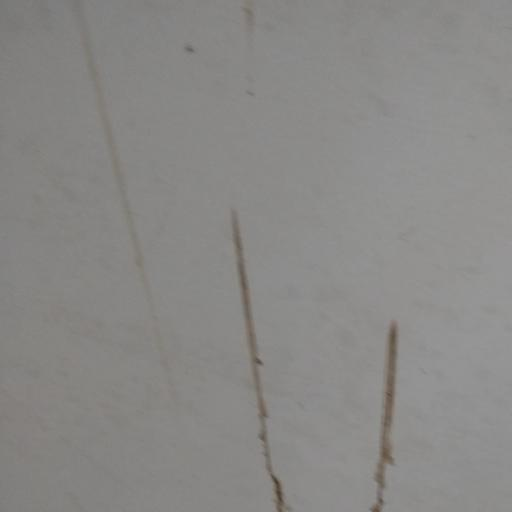stain: (54, 0, 201, 424), (219, 189, 316, 512), (349, 300, 411, 512), (221, 0, 269, 102)
